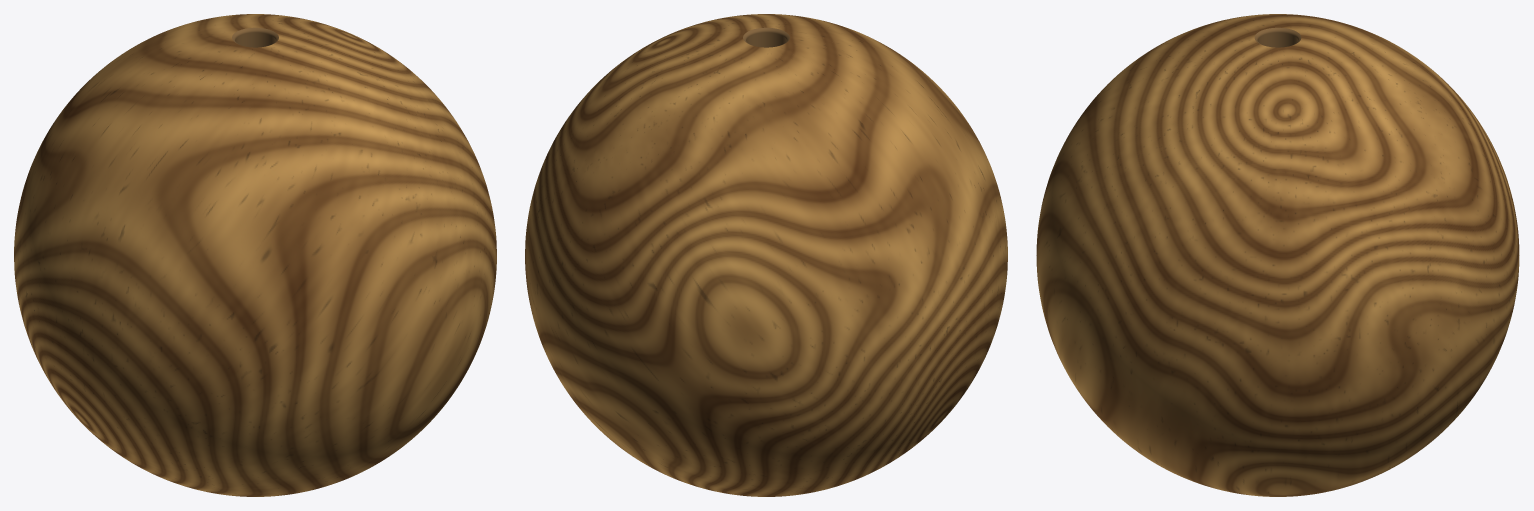
Rendered from wood-hainan-huanghuali-12mm.glb.
The picture shows the model from 3 angles, left to right: view 1: azimuth 30°, elevation 25°; view 2: azimuth 150°, elevation 25°; view 3: azimuth 270°, elevation 25°; orthographic projection.
Visible parts, largest first — view 1: hainan-huanghuali; view 2: hainan-huanghuali; view 3: hainan-huanghuali.
Boxes of the visible parts, x1=… form: hainan-huanghuali: x1=14, y1=14, x2=496, y2=496; hainan-huanghuali: x1=525, y1=14, x2=1007, y2=496; hainan-huanghuali: x1=1036, y1=14, x2=1519, y2=496.
Size of the model in its own units: 0.012 by 0.0119 by 0.012.
2 materials, 1 textured.
